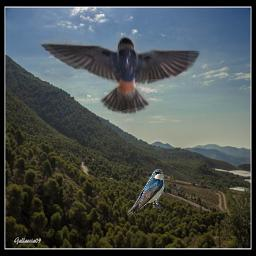Swallow: (35, 34, 203, 115), (126, 168, 165, 216)
